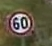limite 60: (8, 8, 36, 36)
